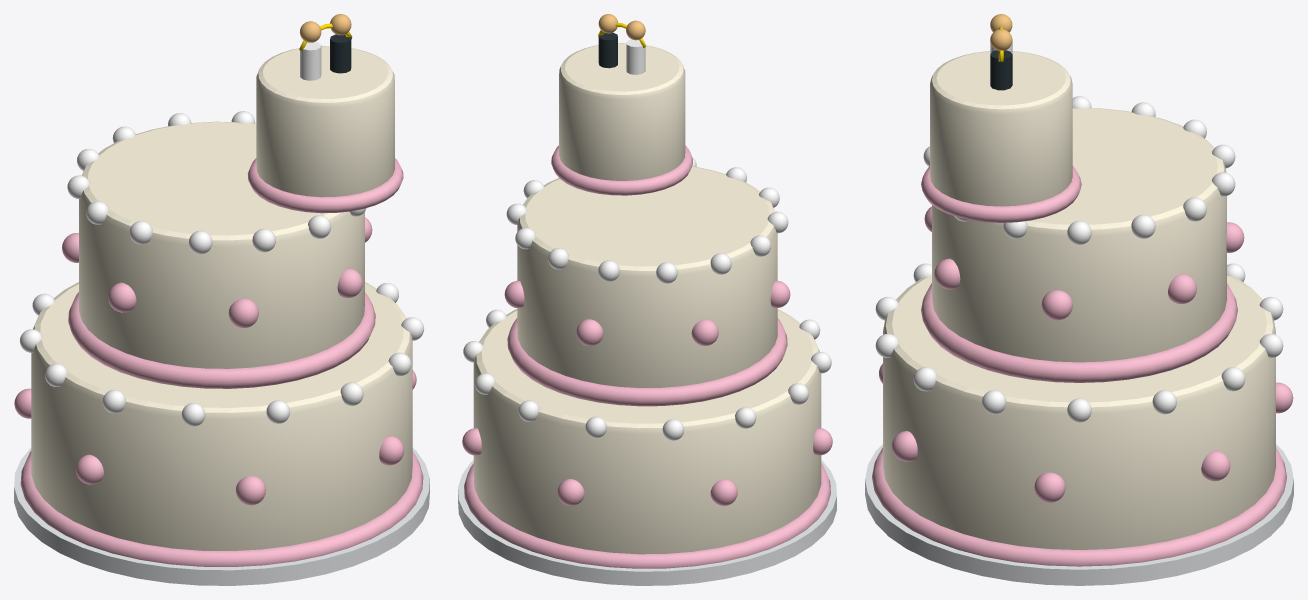
File: tiered_cake.fbx
3 views of the same model, side by side, from view 1: azimuth 30°, elevation 25°; view 2: azimuth 150°, elevation 25°; view 3: azimuth 270°, elevation 25° (orthographic). The views are drawn at different scales.
Visible parts, largest first — view 1: Wedding Cake; view 2: Wedding Cake; view 3: Wedding Cake.
Part boxes in pixels (x1,y1,x2,y2): Wedding Cake: (14,14,429,585); Wedding Cake: (458,14,836,585); Wedding Cake: (865,14,1293,585).
Size of the model in its own units: 1.92 by 2.5 by 1.92.
